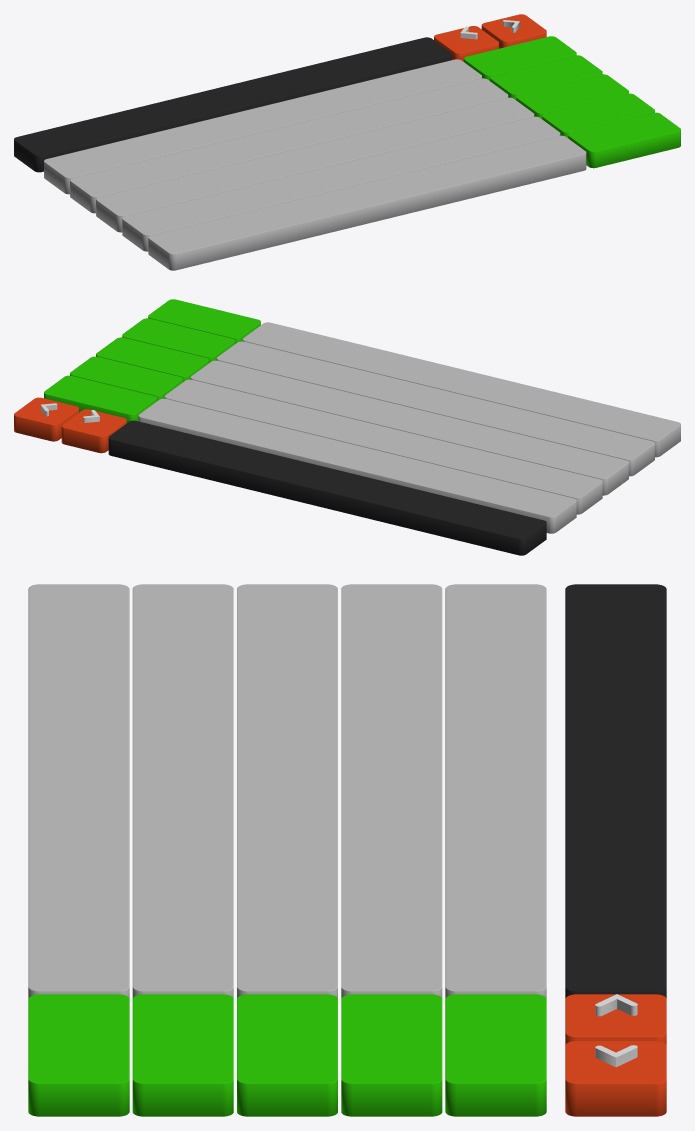
The model's file is Lista.fbx.
3 views of the same model, one above another, from view 1: azimuth 30°, elevation 25°; view 2: azimuth 150°, elevation 25°; view 3: azimuth 270°, elevation 25° (orthographic). The views are drawn at different scales.
Visible parts, largest first — view 1: Curve.008, Curve.002, Curve.005, Curve.007, Curve.004, Curve.003, Curve.016, Curve.012, Curve.013, Curve.015, Curve.011, Curve.014 (+1 smaller); view 2: Curve.002, Curve.003, Curve.005, Curve.004, Curve.007, Curve.008, Curve.011, Curve.015, Curve.012, Curve.013, Curve.016, Curve.014 (+1 smaller); view 3: Curve.004, Curve.007, Curve.002, Curve.003, Curve.008, Curve.005, Curve.012, Curve.015, Curve.011, Curve.016, Curve.013, Curve.014 (+1 smaller).
Boxes of the visible parts, x1,y1,x2,y2 form: Curve.008: [148, 135, 586, 270]; Curve.002: [14, 37, 451, 172]; Curve.005: [96, 97, 534, 232]; Curve.007: [122, 116, 560, 251]; Curve.004: [70, 78, 508, 213]; Curve.003: [44, 59, 481, 194]; Curve.016: [568, 112, 680, 168]; Curve.012: [490, 55, 602, 99]; Curve.013: [516, 74, 628, 118]; Curve.015: [542, 93, 654, 137]; Curve.011: [464, 36, 576, 80]; Curve.014: [481, 14, 546, 48]; Curve.002: [108, 420, 546, 555]; Curve.003: [138, 398, 576, 533]; Curve.005: [190, 360, 628, 495]; Curve.004: [164, 379, 602, 514]; Curve.007: [216, 341, 654, 476]; Curve.008: [243, 322, 680, 457]; Curve.011: [44, 375, 156, 422]; Curve.015: [122, 318, 234, 362]; Curve.012: [70, 356, 182, 401]; Curve.013: [96, 337, 208, 381]; Curve.016: [148, 299, 260, 343]; Curve.014: [14, 397, 78, 441]; Curve.004: [341, 584, 442, 997]; Curve.007: [132, 584, 233, 997]; Curve.002: [565, 584, 666, 998]; Curve.003: [445, 584, 546, 998]; Curve.008: [28, 584, 129, 998]; Curve.005: [237, 584, 337, 997]; Curve.012: [341, 994, 442, 1116]; Curve.015: [132, 994, 233, 1116]; Curve.011: [445, 994, 546, 1116]; Curve.016: [28, 994, 129, 1116]; Curve.013: [237, 994, 337, 1116]; Curve.014: [565, 1041, 666, 1116].
Size of the model in its own units: 16.95 by 0.7759 by 9.15.
